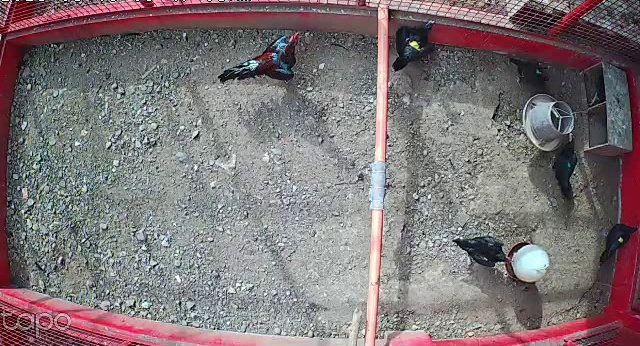Chicken: (544, 130, 586, 209), (387, 17, 438, 75), (447, 226, 512, 266), (593, 217, 640, 271), (509, 54, 554, 85)
Rooster: (219, 29, 307, 86)
Saddle_Color_Yellow: (405, 35, 423, 52)
